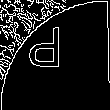P_S: (37, 30, 73, 80)
